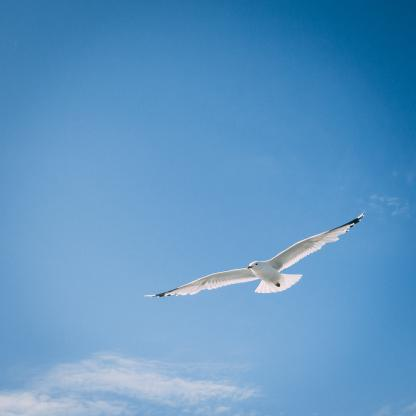bird: (145, 212, 366, 297)
